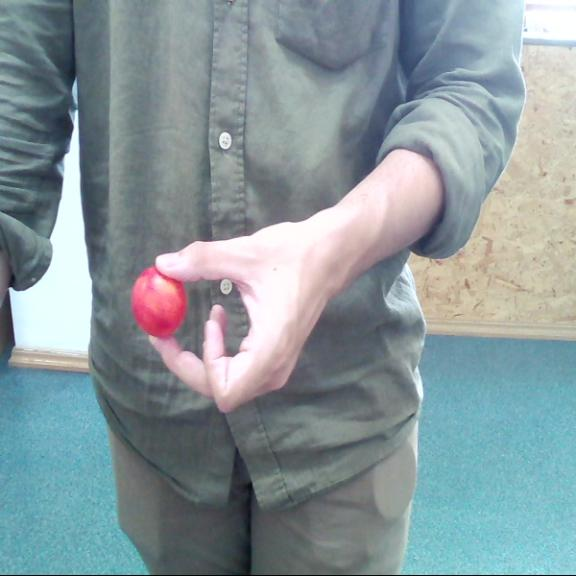ball: (136, 269, 186, 339)
